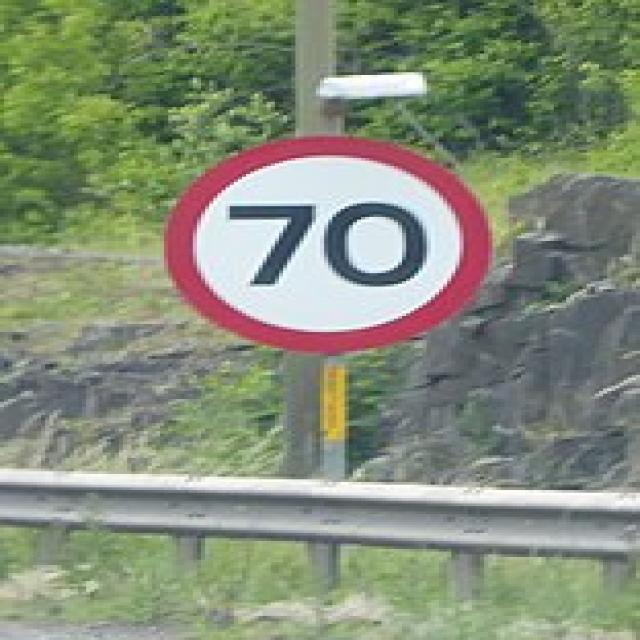Speed Limit -70-: (215, 182, 452, 318)
